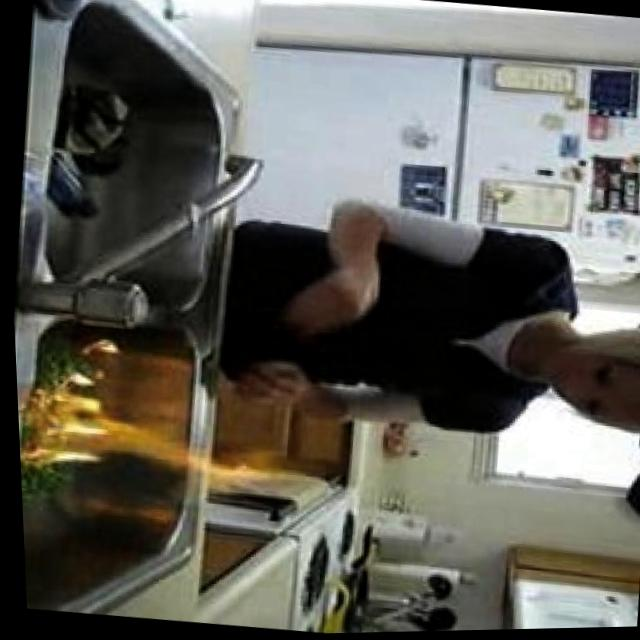Fire: (11, 323, 293, 506)
